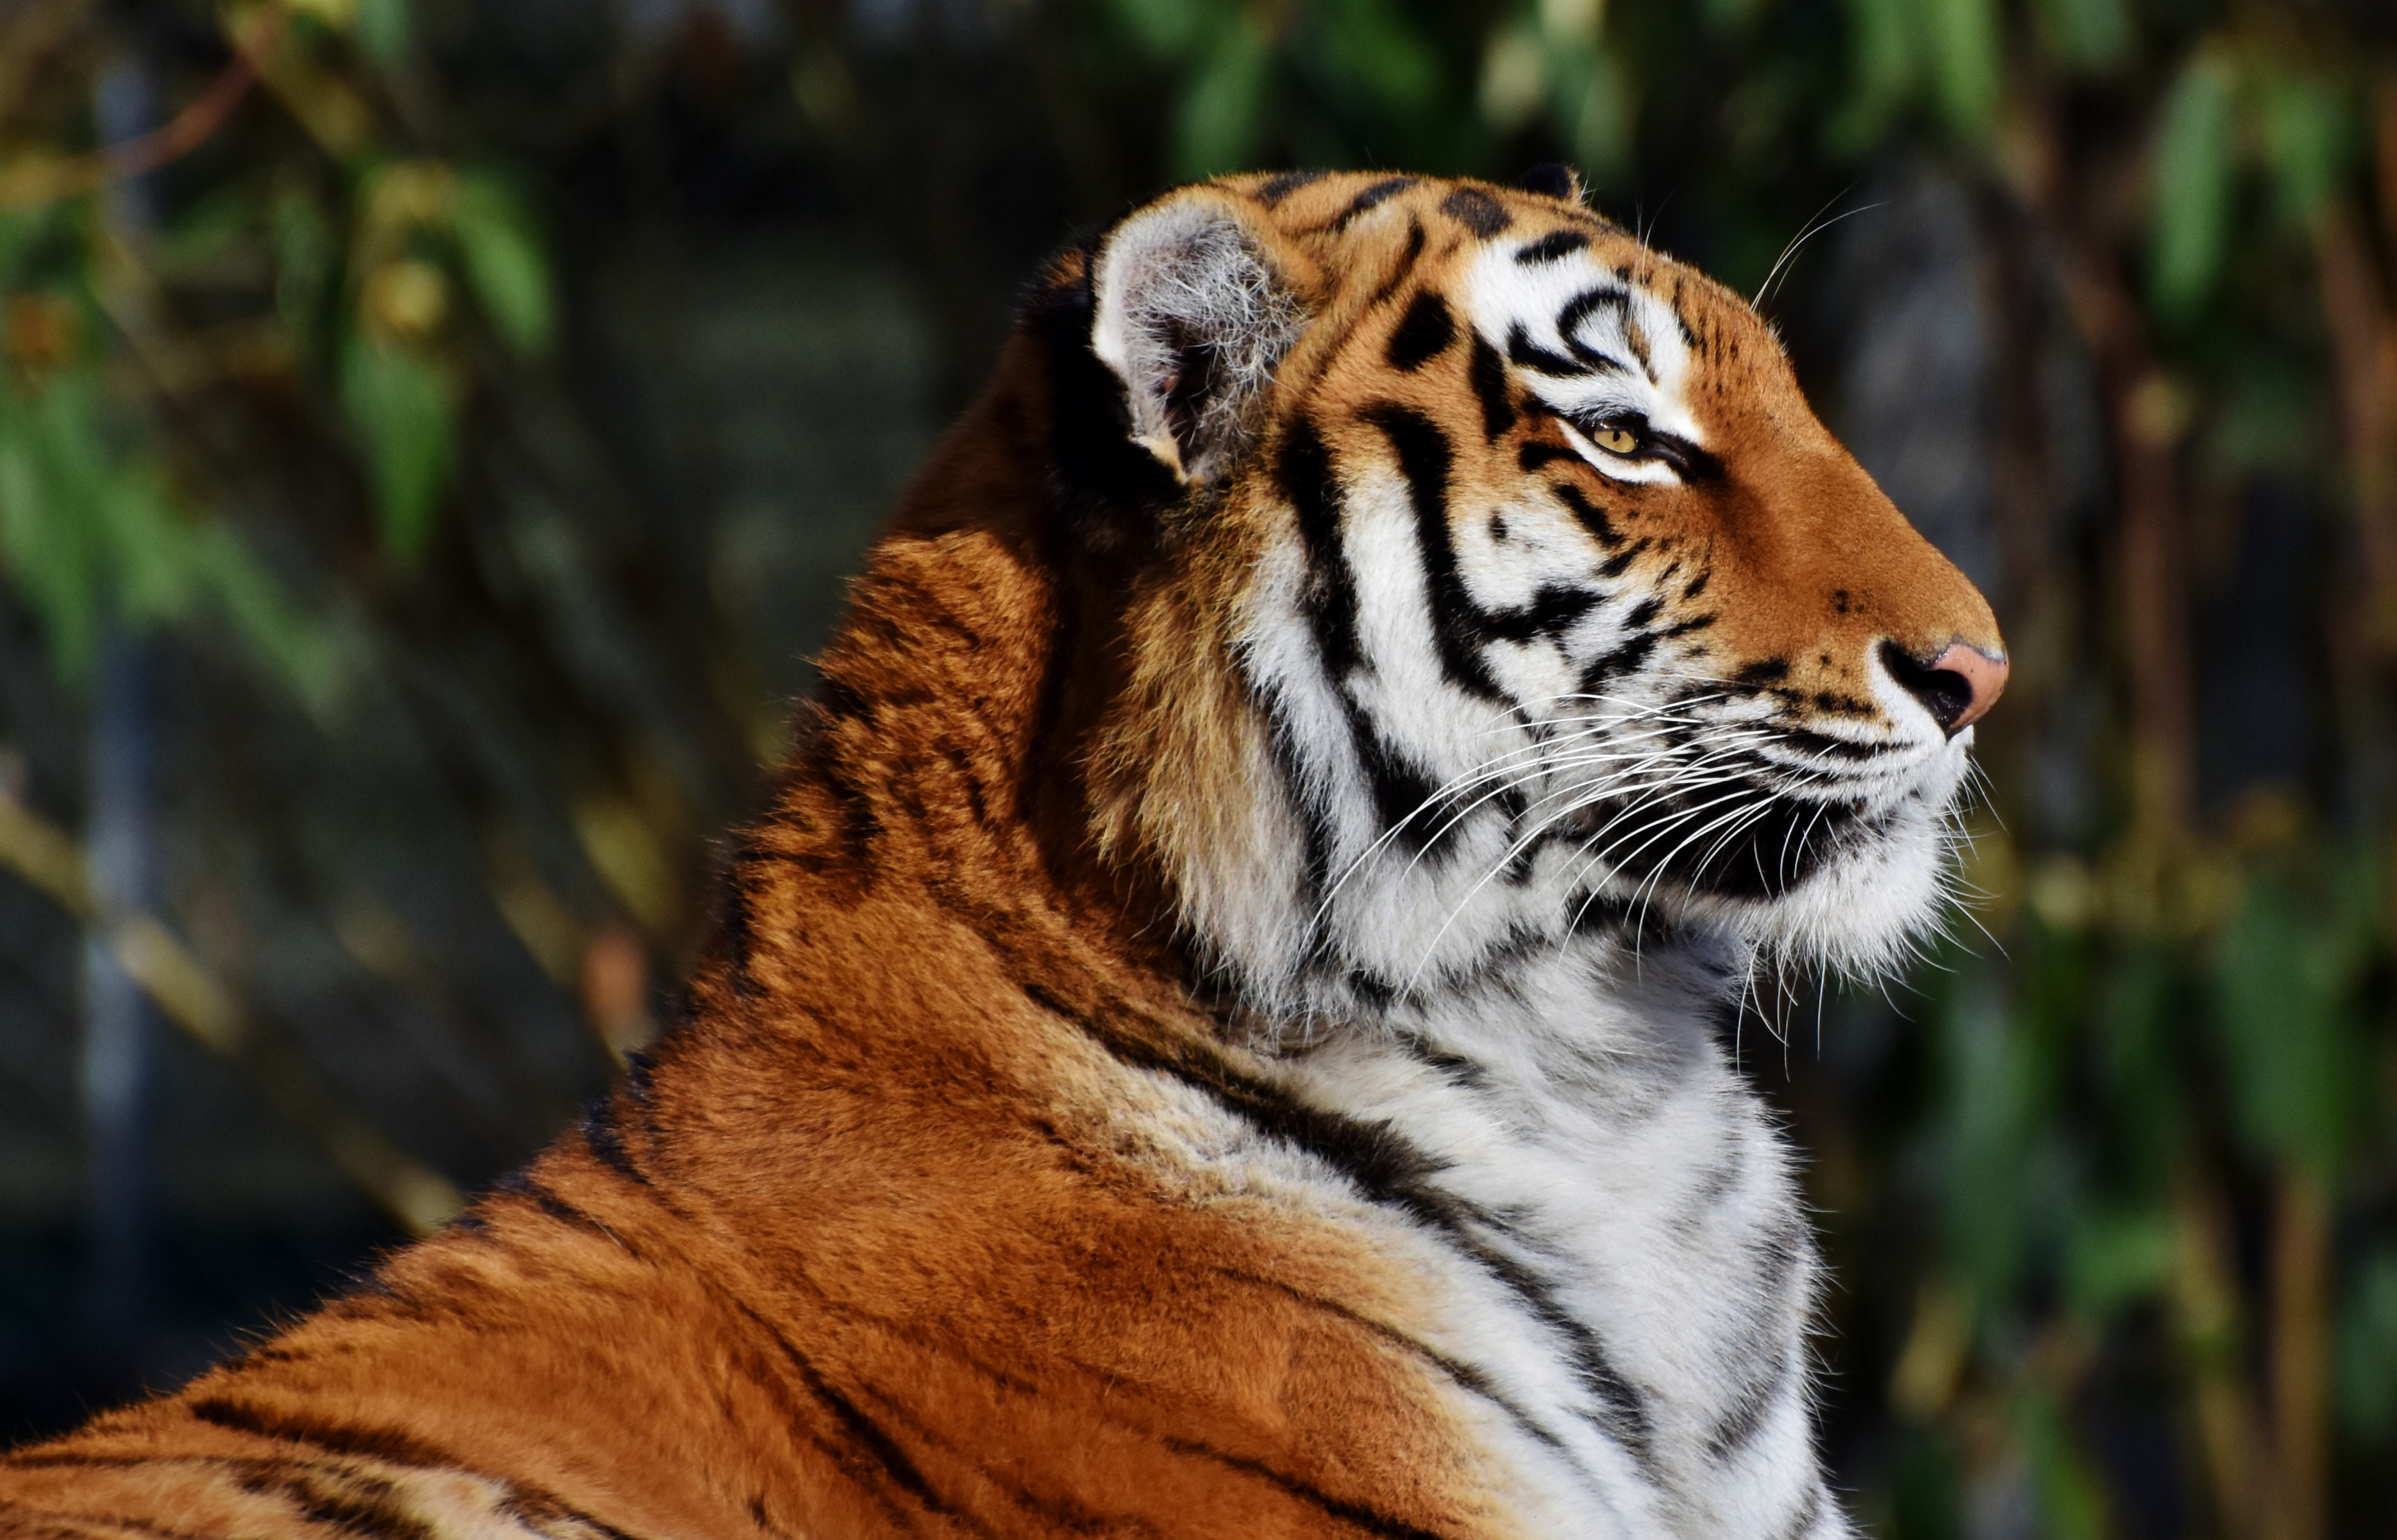tiger: (517, 201, 2039, 1502)
